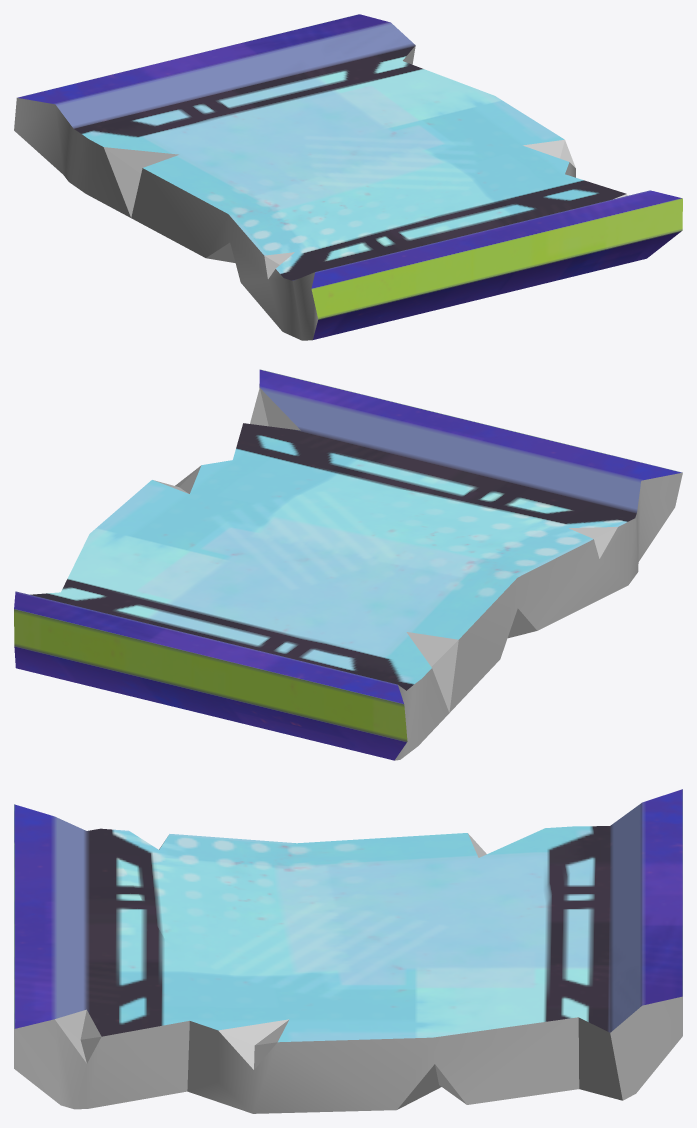
The model's file is SM_Platform5x4_Cassé_02.fbx.
3 views of the same model, one above another, from view 1: azimuth 30°, elevation 25°; view 2: azimuth 150°, elevation 25°; view 3: azimuth 270°, elevation 25° (orthographic). The views are drawn at different scales.
Visible parts, largest first — view 1: SM_Platform5x4_Cassé_02; view 2: SM_Platform5x4_Cassé_02; view 3: SM_Platform5x4_Cassé_02.
Part boxes in pixels (box(x1,y1,x2,y2)): SM_Platform5x4_Cassé_02: box(14, 14, 682, 340); SM_Platform5x4_Cassé_02: box(14, 369, 682, 760); SM_Platform5x4_Cassé_02: box(14, 789, 682, 1113).
Bounding box in the file's own units: 3.42 × 0.6 × 4.
